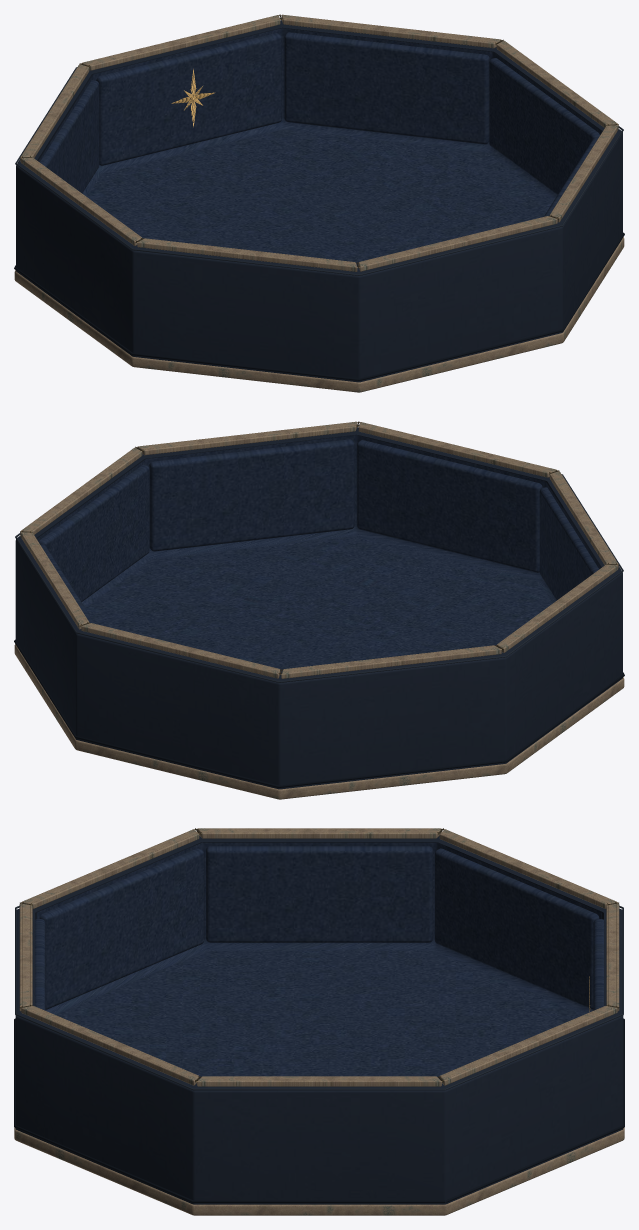
Rendered from tray.glb.
3 views of the same model, one above another, from view 1: azimuth 30°, elevation 25°; view 2: azimuth 150°, elevation 25°; view 3: azimuth 270°, elevation 25° (orthographic). The views are drawn at different scales.
Visible parts, largest first — view 1: MM_Tray, Panel_velvet_01, Panel_velvet_02, Panel_velvet_00, Panel_velvet_03, Rim_section_05, Rim_section_01, Rim_section_06, Rim_section_02, Leather_lower_reveal, Leather_upper_shoulder, Rim_section_04 (+3 smaller); view 2: MM_Tray, Panel_velvet_07, Panel_velvet_06, Panel_velvet_00, Panel_velvet_05, Rim_section_03, Rim_section_07, Rim_section_02, Rim_section_06, Leather_lower_reveal, Leather_upper_shoulder, Rim_section_04 (+3 smaller); view 3: MM_Tray, Panel_velvet_04, Panel_velvet_03, Panel_velvet_05, Rim_section_00, Rim_section_04, Leather_lower_reveal, Rim_section_01, Rim_section_07, Rim_section_03, Rim_section_05, Leather_upper_shoulder (+4 smaller).
Part boxes in pixels (x1=…): MM_Tray: x1=14, y1=20, x2=624, y2=392; Panel_velvet_01: x1=284, y1=32, x2=489, y2=144; Panel_velvet_02: x1=96, y1=33, x2=281, y2=165; Panel_velvet_00: x1=489, y1=58, x2=599, y2=194; Panel_velvet_03: x1=39, y1=80, x2=99, y2=193; Rim_section_05: x1=137, y1=238, x2=357, y2=271; Rim_section_01: x1=281, y1=14, x2=501, y2=48; Rim_section_06: x1=358, y1=216, x2=557, y2=271; Rim_section_02: x1=81, y1=15, x2=280, y2=70; Leather_lower_reveal: x1=14, y1=232, x2=624, y2=380; Leather_upper_shoulder: x1=15, y1=18, x2=623, y2=275; Rim_section_04: x1=20, y1=157, x2=141, y2=245; MM_Tray: x1=14, y1=427, x2=624, y2=799; Panel_velvet_07: x1=149, y1=439, x2=354, y2=551; Panel_velvet_06: x1=357, y1=440, x2=542, y2=572; Panel_velvet_00: x1=39, y1=465, x2=149, y2=601; Panel_velvet_05: x1=539, y1=487, x2=599, y2=600; Rim_section_03: x1=281, y1=645, x2=501, y2=678; Rim_section_07: x1=137, y1=421, x2=357, y2=455; Rim_section_02: x1=81, y1=623, x2=280, y2=678; Rim_section_06: x1=358, y1=422, x2=557, y2=477; Leather_lower_reveal: x1=14, y1=639, x2=624, y2=787; Leather_upper_shoulder: x1=15, y1=425, x2=623, y2=682; Rim_section_04: x1=497, y1=564, x2=618, y2=652; MM_Tray: x1=14, y1=836, x2=624, y2=1215; Panel_velvet_04: x1=206, y1=846, x2=432, y2=942; Panel_velvet_03: x1=434, y1=848, x2=599, y2=1009; Panel_velvet_05: x1=39, y1=848, x2=204, y2=1009; Rim_section_00: x1=197, y1=1076, x2=441, y2=1086; Rim_section_04: x1=197, y1=828, x2=441, y2=838; Leather_lower_reveal: x1=14, y1=1018, x2=624, y2=1202; Rim_section_01: x1=439, y1=1006, x2=617, y2=1085; Rim_section_07: x1=21, y1=1006, x2=199, y2=1085; Rim_section_03: x1=439, y1=829, x2=617, y2=908; Rim_section_05: x1=21, y1=829, x2=199, y2=908; Leather_upper_shoulder: x1=15, y1=905, x2=623, y2=1090.
Size of the model in its own units: 0.1568 by 0.0376 by 0.1568.
12 materials, 3 textured.
